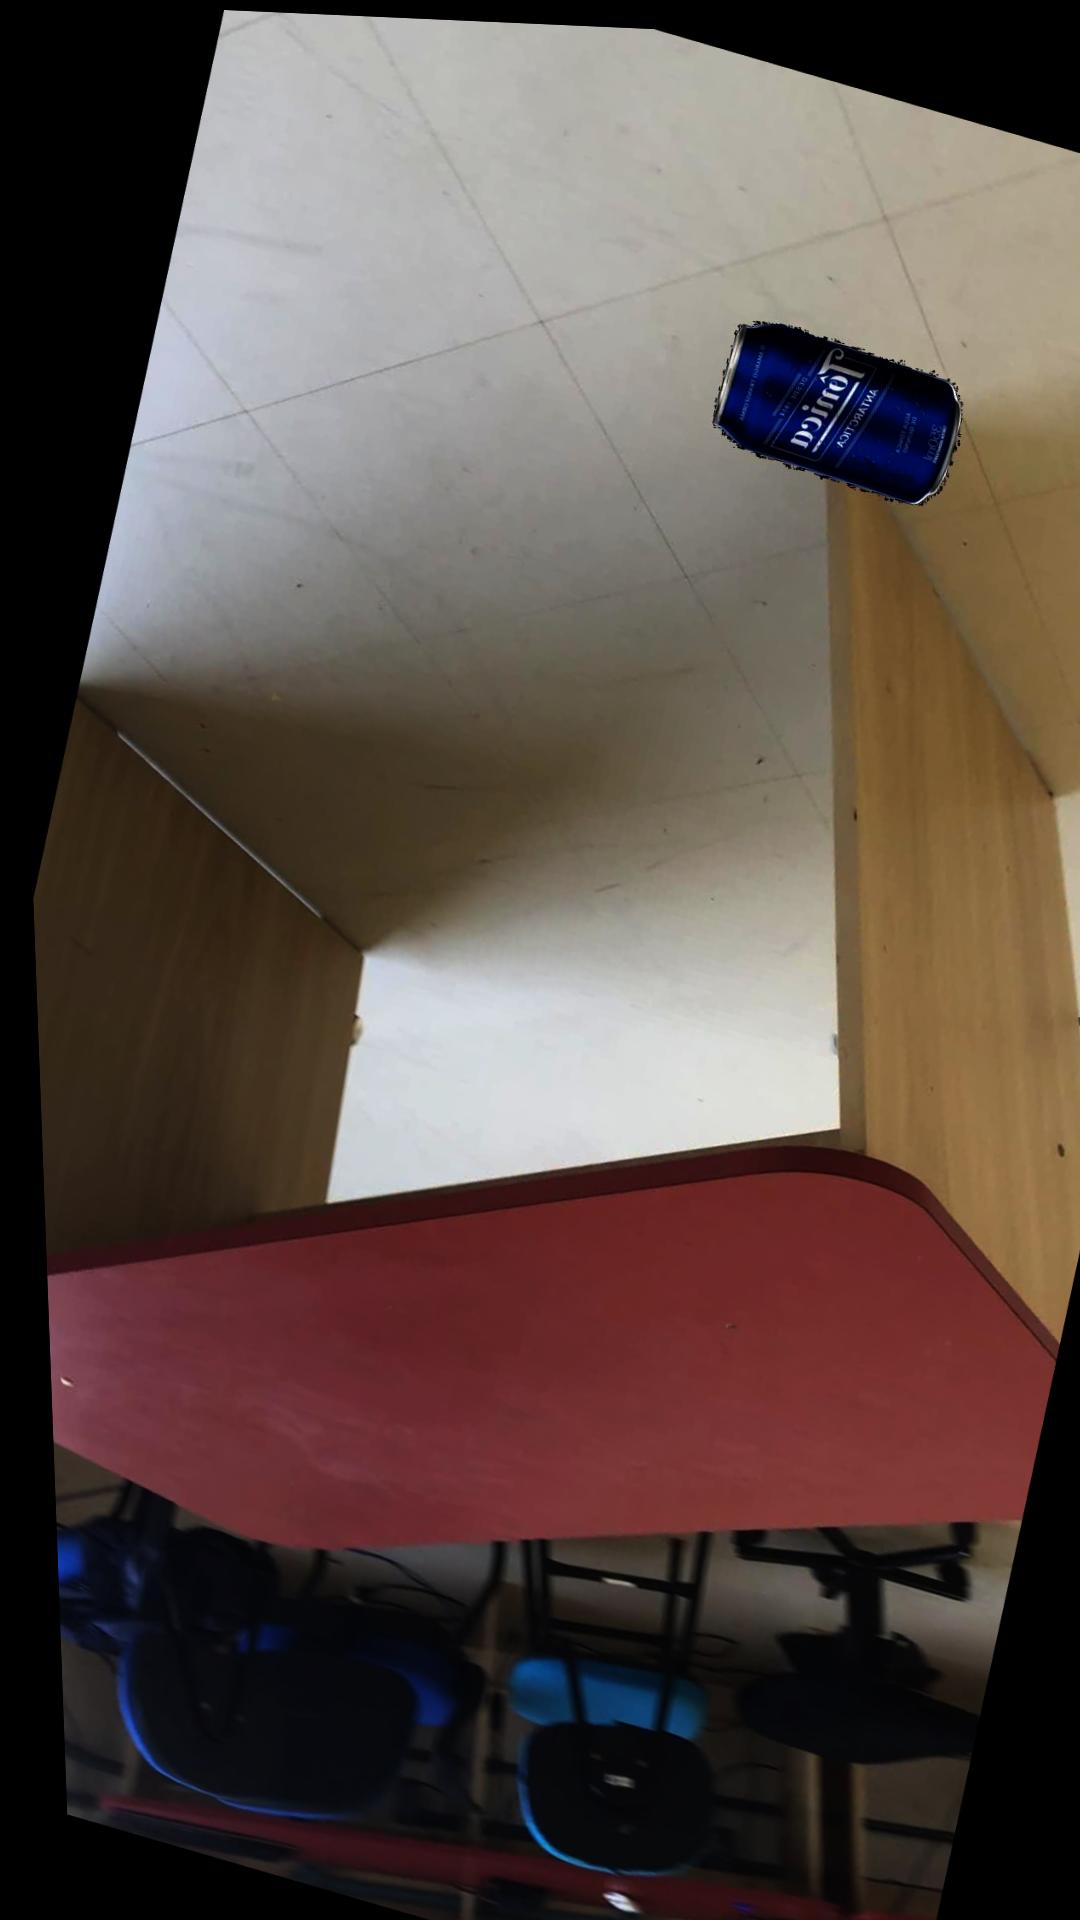tonic: (711, 315, 960, 498)
